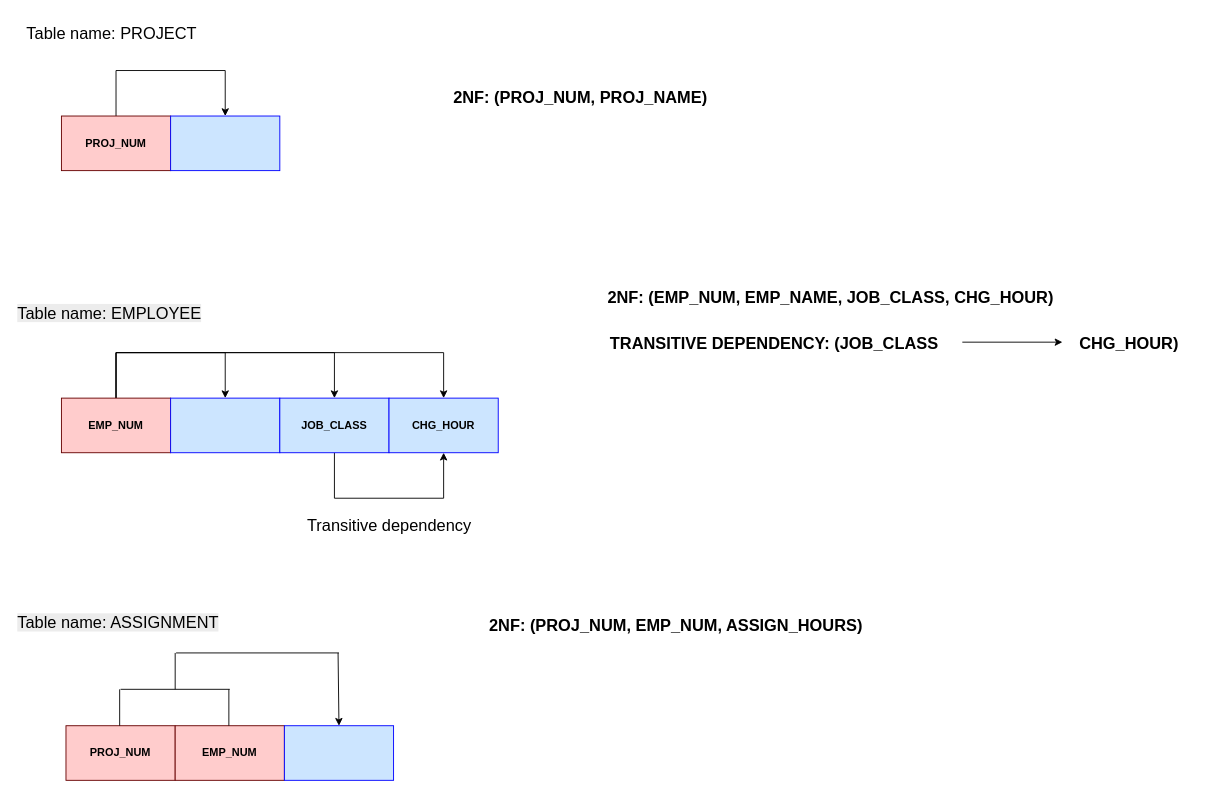
This 1205x796 diagram has some shape labels left out. Each missing label, with the centre of its shape:
"ASSIGN_HOURS" belongs at point 338,752.
"EMP_NAME" belongs at point 225,425.
"PROJ_NAME" belongs at point 225,143.
